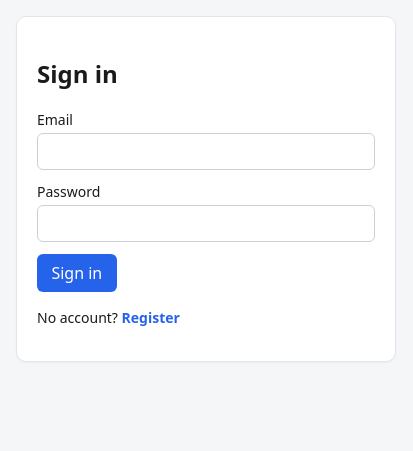
Test case: AuthPanel › renders sign-in by default and toggles to register
This screenshot has width=413, height=451.
expect the heading "Sign in" is shown: met, box [37,57,118,90]
expect the field labelled "name" is not shown: met
Click the button "Register".
click(151, 317)  # box [122,308,180,327]
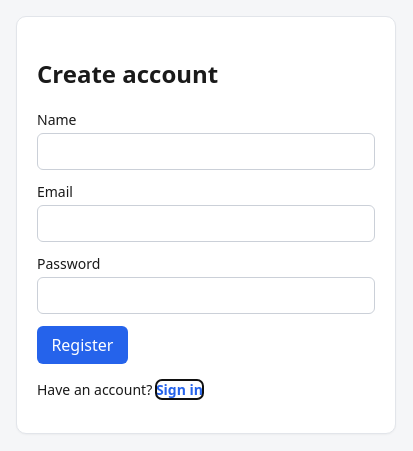
expect the field labelled "Name" is shown: met, box [37,133,375,170]
expect the heading "Create account" is shown: met, box [37,57,218,90]
